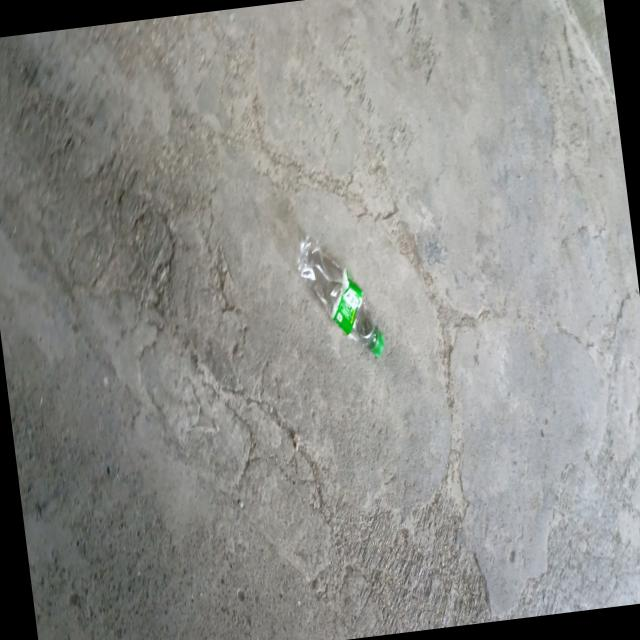Bottle: (296, 236, 383, 357)
